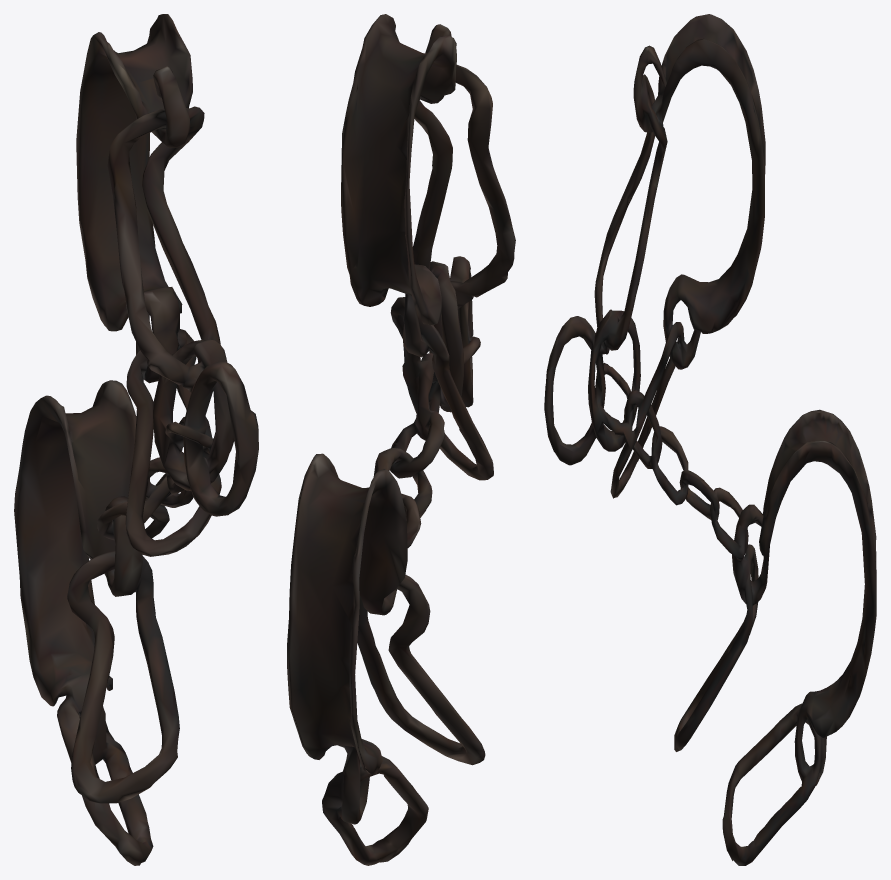
File: chains.glb
The picture shows the model from 3 angles, left to right: view 1: azimuth 30°, elevation 25°; view 2: azimuth 150°, elevation 25°; view 3: azimuth 270°, elevation 25°; orthographic projection. The views are drawn at different scales.
Visible parts, largest first — view 1: body; view 2: body; view 3: body.
Part boxes in pixels (x1,y1,x2,y2): body: (14,14,258,865); body: (287,14,515,865); body: (544,14,876,865).
Size of what is drawn, in the model's own units: 0.3001 by 2.2 by 0.7991.
